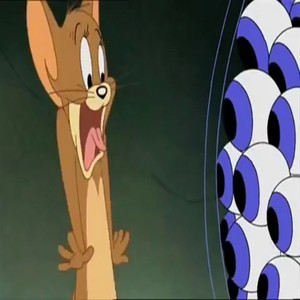Jerry: (22, 2, 141, 300)
